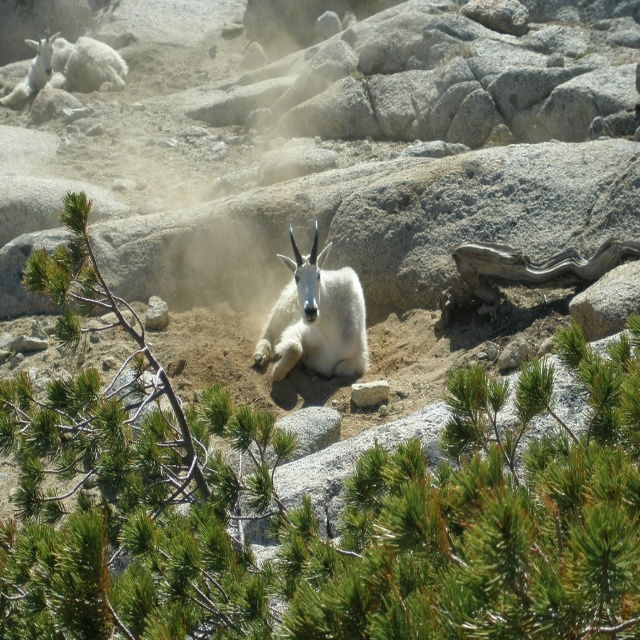Goat: (253, 220, 371, 382), (0, 25, 128, 103)
